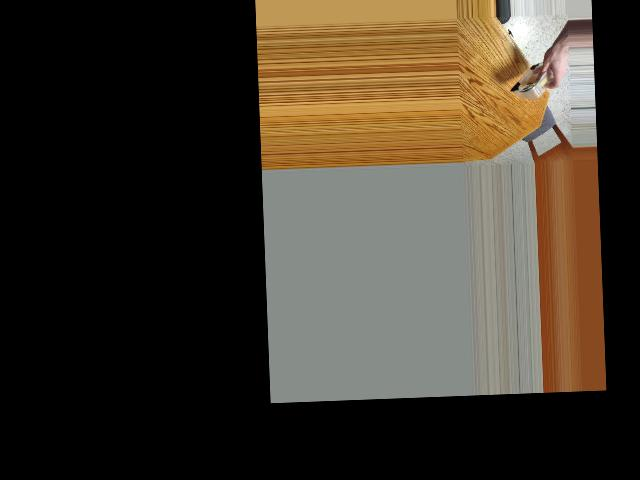cheese: (511, 47, 556, 108)
